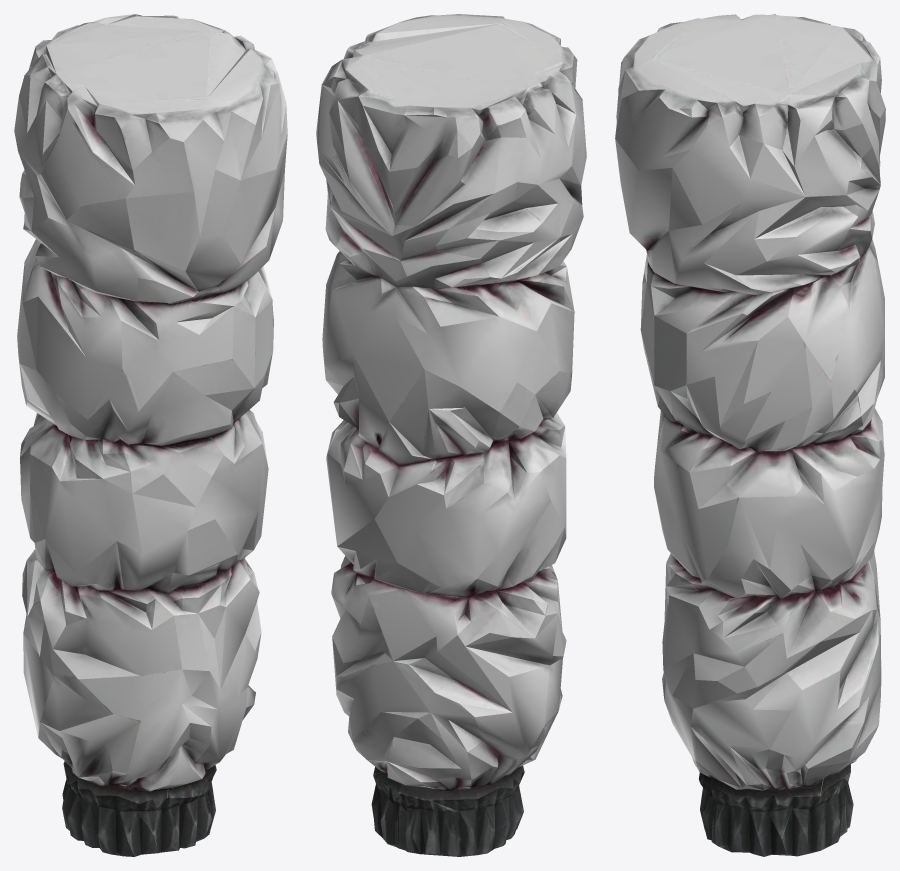
File: arm_puffer.glb
3 renders of one model, left to right at view 1: azimuth 30°, elevation 25°; view 2: azimuth 150°, elevation 25°; view 3: azimuth 270°, elevation 25°, orthographic.
Bounding box in the file's own units: 0.3136 × 1 × 0.3171.
1 material, 1 textured.
